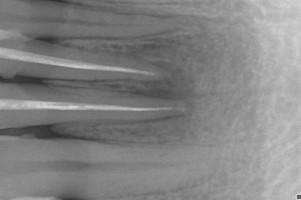Furcation Involvement: (136, 60, 197, 116)
